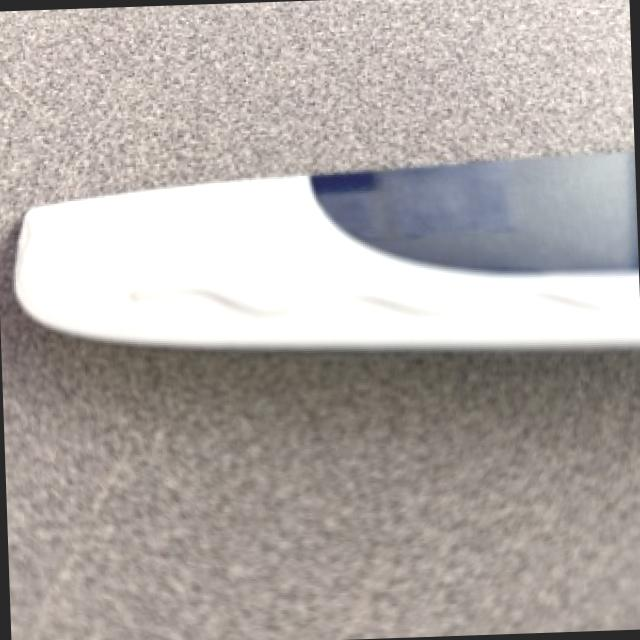healthy: (18, 149, 640, 348)
